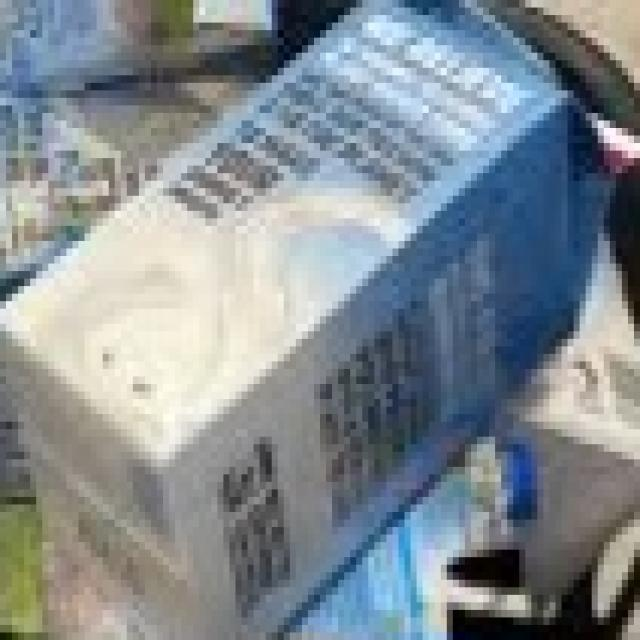drink carton: (0, 1, 640, 614)
